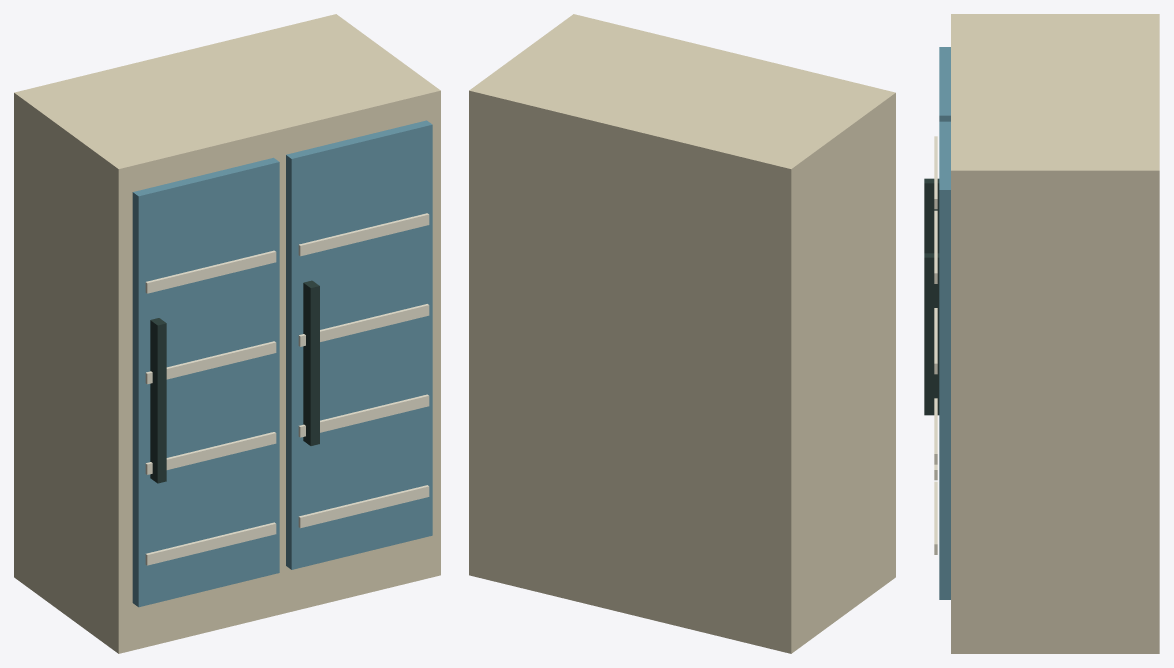
File: Refrigerator.obj
3 views of the same model, side by side, from view 1: azimuth 30°, elevation 25°; view 2: azimuth 150°, elevation 25°; view 3: azimuth 270°, elevation 25° (orthographic).
Visible parts, largest first — view 1: Refrigerator; view 2: Refrigerator; view 3: Refrigerator.
Boxes of the visible parts, x1,y1,x2,y2 form: Refrigerator: (14,14,440,653); Refrigerator: (469,14,895,653); Refrigerator: (924,14,1159,653).
Size of the model in its own units: 1.6 by 2.3 by 1.01.
